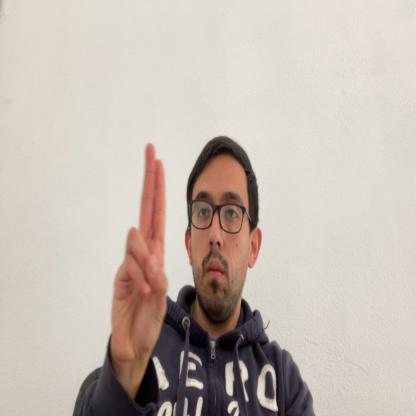U: (111, 142, 169, 363)
